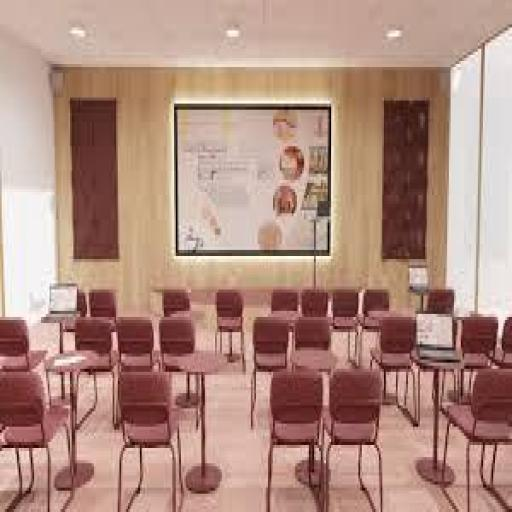chair: (110, 308, 192, 512), (327, 343, 392, 504), (263, 362, 328, 512)
